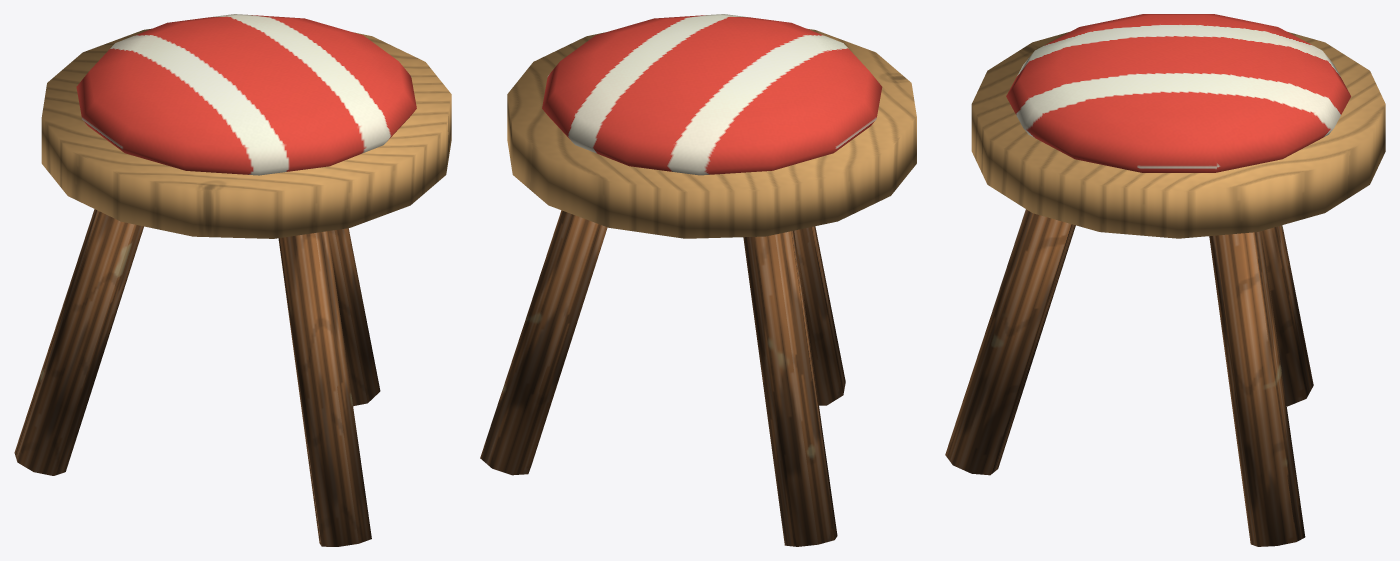
The model's file is camp_stool.glb.
3 views of the same model, side by side, from view 1: azimuth 30°, elevation 25°; view 2: azimuth 150°, elevation 25°; view 3: azimuth 270°, elevation 25° (orthographic).
Visible parts, largest first — view 1: CampStool; view 2: CampStool; view 3: CampStool.
Part boxes in pixels (<box>): CampStool: <box>14,14,451,546</box>; CampStool: <box>480,14,916,546</box>; CampStool: <box>945,14,1385,546</box>.
Bounding box in the file's own units: 0.4816 × 0.535 × 0.5106.
1 material, 1 textured.
